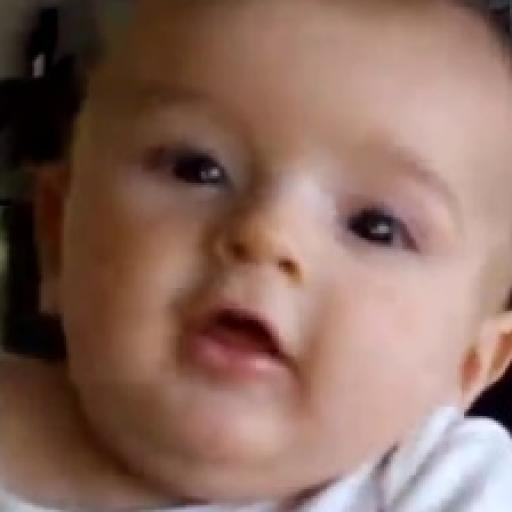Autism: (54, 12, 512, 512)
